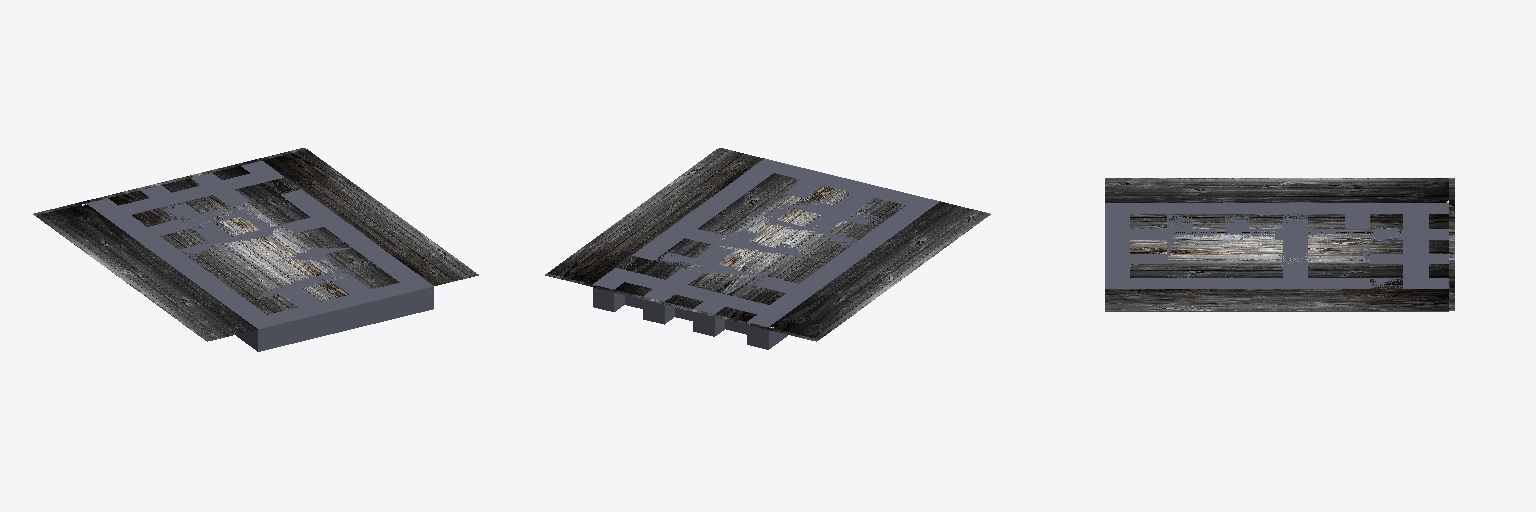
The picture shows the model from 3 angles: view 1: azimuth 30°, elevation 25°; view 2: azimuth 150°, elevation 25°; view 3: azimuth 270°, elevation 25°; orthographic projection.
Bounding box in the file's own units: 1.63 × 0.13 × 1.81.
2 materials, 1 textured.